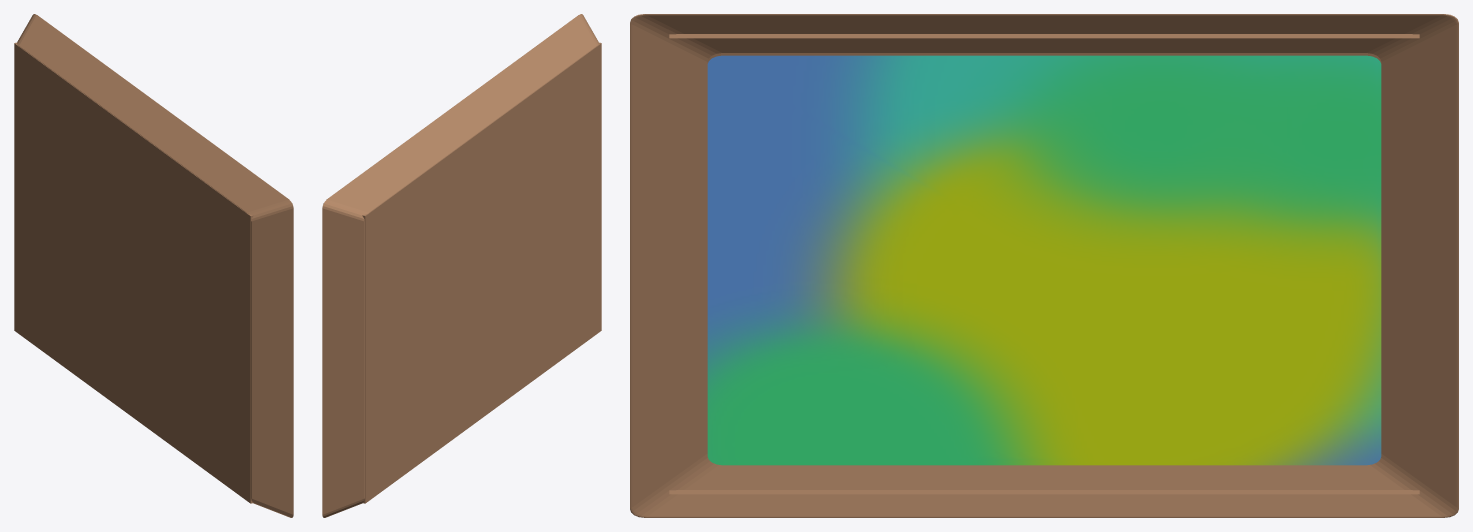
File: paint.fbx
The picture shows the model from 3 angles, left to right: view 1: azimuth 30°, elevation 25°; view 2: azimuth 150°, elevation 25°; view 3: azimuth 270°, elevation 25°; orthographic projection. The views are drawn at different scales.
Parts seen in each view (by area): view 1: Cube; view 2: Cube; view 3: Cube.001, Cube.
Part boxes in pixels (left/top/right/bottom): Cube: left=14, top=14, right=293, bottom=517; Cube: left=322, top=14, right=601, bottom=517; Cube.001: left=707, top=55, right=1381, bottom=465; Cube: left=630, top=14, right=1458, bottom=517.
Size of the model in its own units: 0.2266 by 2.21 by 3.3.
2 materials, 1 textured.
